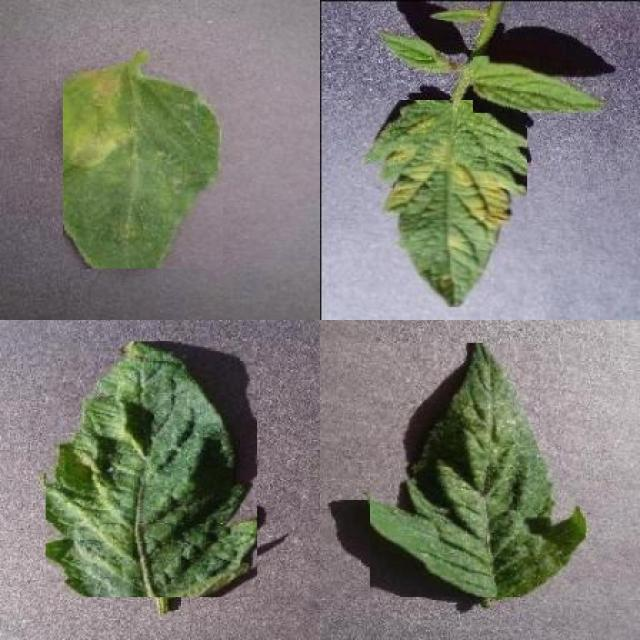Healthy: (473, 56, 601, 113)
Late Blight: (64, 64, 224, 269)
Leaf Mold: (362, 100, 527, 307)
Spider Mites: (370, 342, 586, 598), (46, 342, 258, 597)
